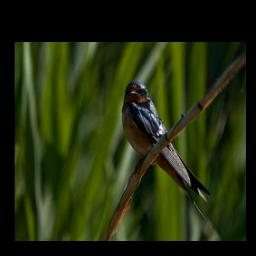Swallow: (122, 79, 213, 228)
